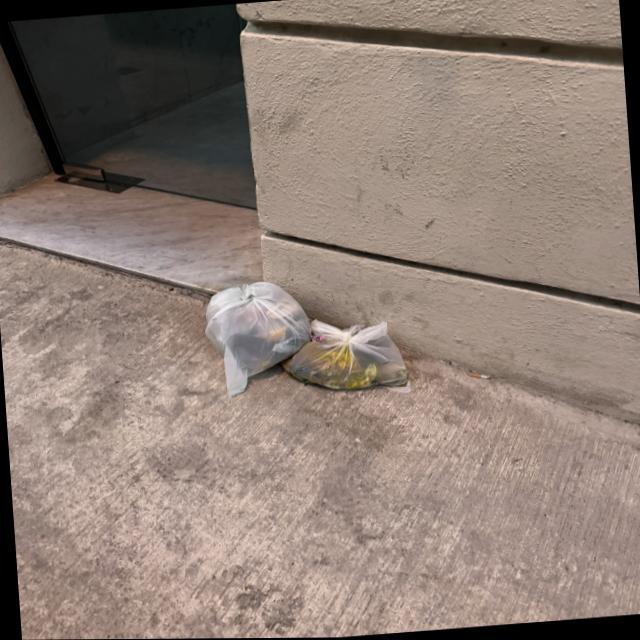Organic Waste -White Bags-: (207, 281, 407, 396)
